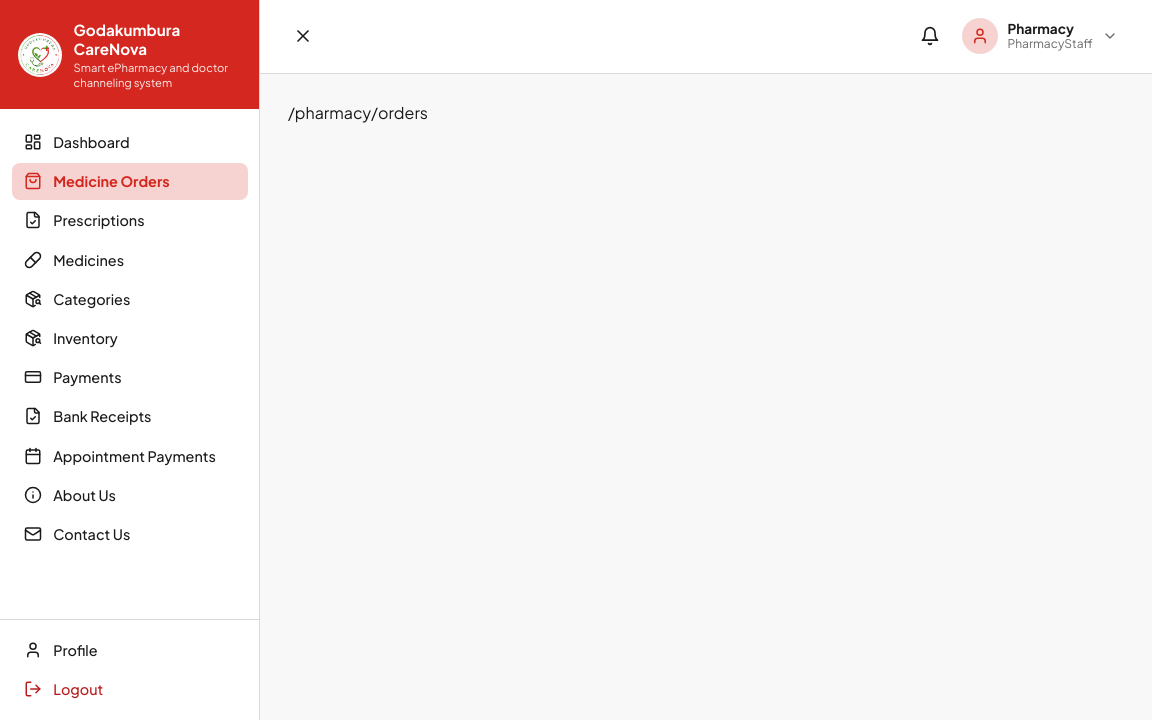
DashboardLayout › opens the pharmacy notification menu for pharmacy staff
Step 1. Click the button named "Notifications" → (930, 36), box [911,17,949,55]
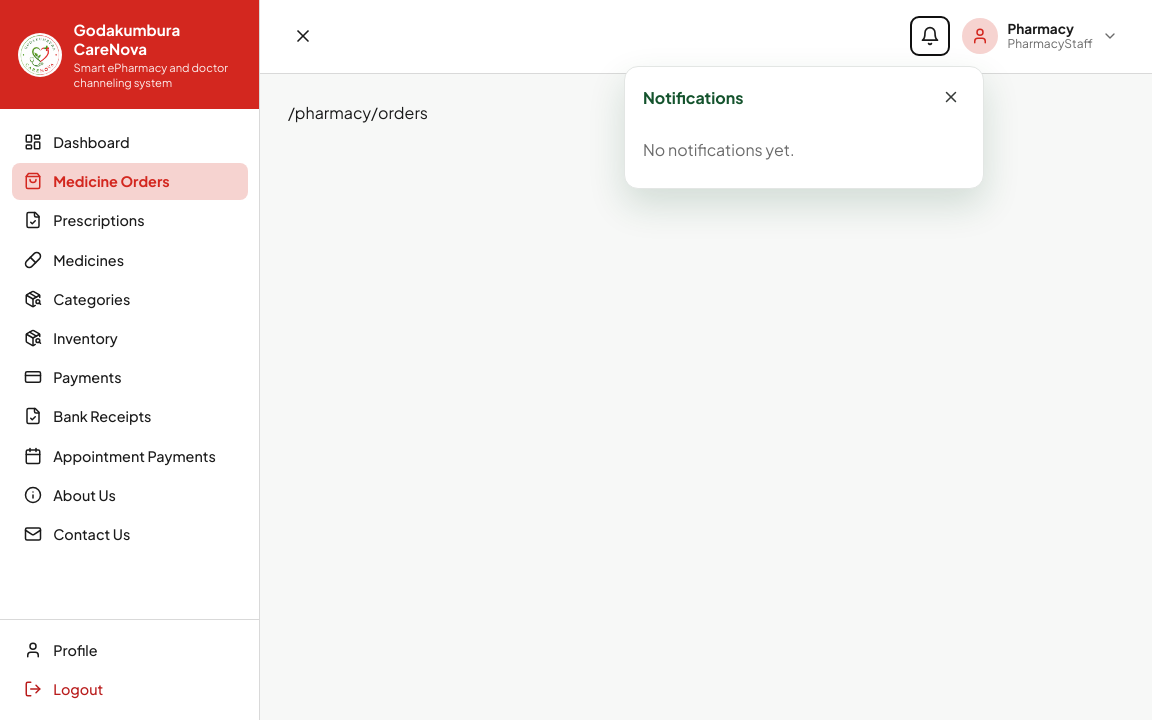
Expected: the text "No notifications yet." is shown, [643,139,794,160]
